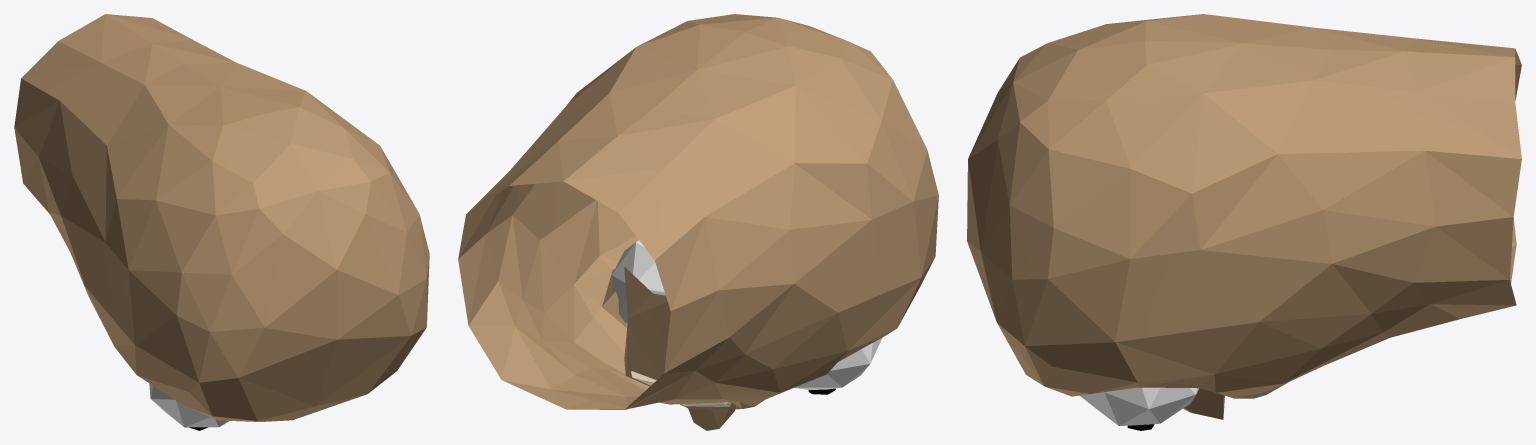
File: CharacterHead.glb
3 renders of one model, left to right at view 1: azimuth 30°, elevation 25°; view 2: azimuth 150°, elevation 25°; view 3: azimuth 270°, elevation 25°, orthographic. The views are drawn at different scales.
Parts seen in each view (by area): view 1: CharacterHead; view 2: CharacterHead; view 3: CharacterHead.
Part boxes in pixels (x1,y1,x2,y2): CharacterHead: (14,14,429,430); CharacterHead: (458,14,938,430); CharacterHead: (967,14,1521,430).
Size of the model in its own units: 0.1821 by 0.1993 by 0.2648.
1 material, 1 textured.
